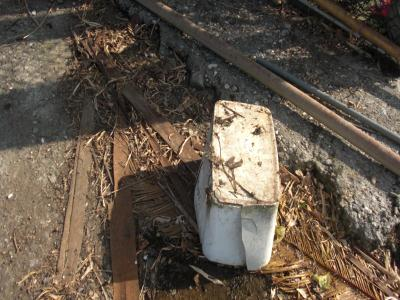box: (196, 99, 280, 272)
